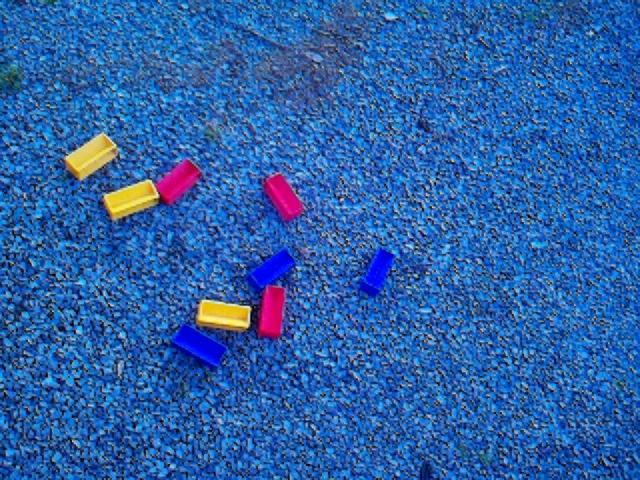blue: (171, 323, 228, 370), (247, 249, 296, 292), (359, 248, 396, 297)
red: (155, 158, 202, 206), (263, 173, 305, 222), (257, 285, 286, 340)
yellow: (64, 133, 118, 181), (103, 179, 161, 221), (195, 299, 252, 332)
